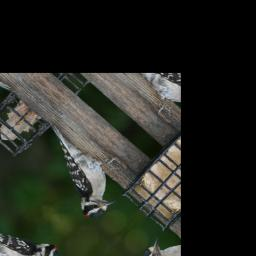Woodpecker: (17, 109, 139, 224)
